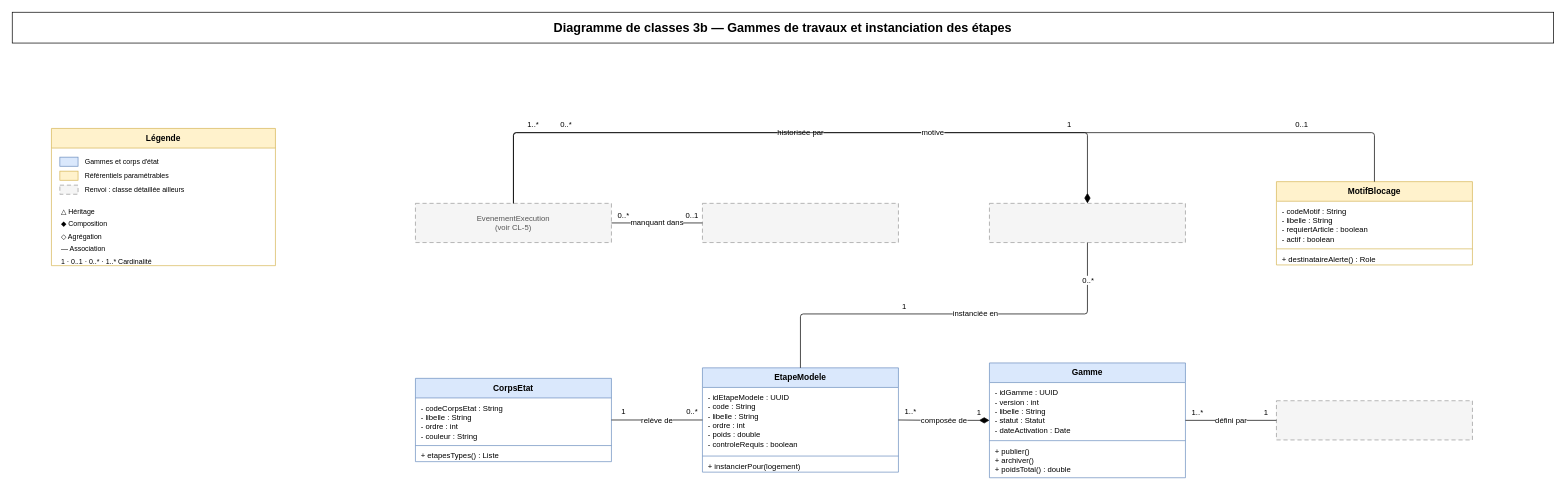
Image size: 1566x490. Some labels were removed from this diagram. The shapes that lost their labels are listed below. From the top down, each one's centre as x and y in pixels, then its label:
At pixel 800 223: "Article (voir CL-3a)".
At pixel 1087 223: "EtapeTravaux (voir CL-5)".
At pixel 1374 420: "TypeLogement (voir CL-2)".
